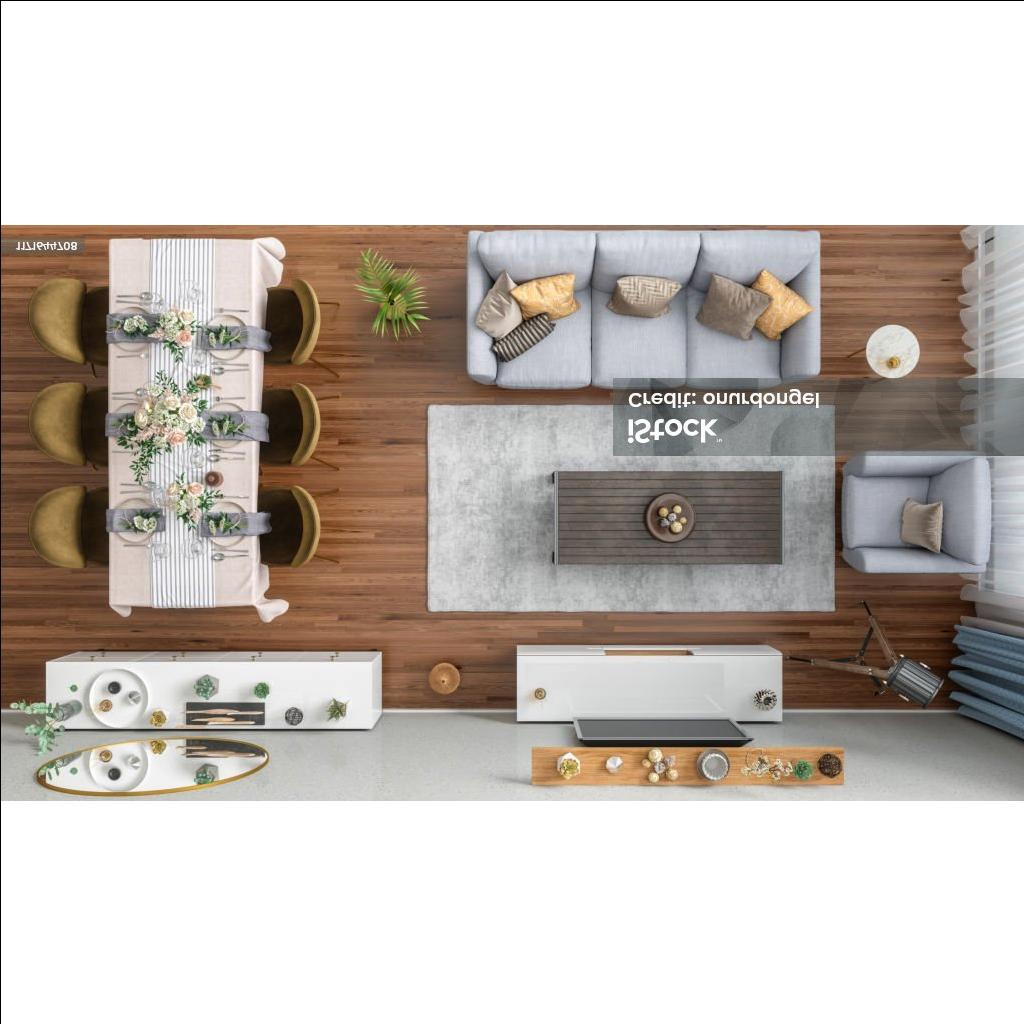TV stand: (516, 654, 782, 720)
chair: (838, 451, 996, 573), (28, 482, 98, 568), (28, 381, 98, 467), (29, 275, 97, 363), (263, 276, 321, 366), (262, 485, 322, 567), (263, 384, 321, 466)
coffee table: (558, 472, 780, 564)
dining table: (108, 236, 258, 606)
floor lamp: (855, 625, 941, 703)
floor plant: (365, 273, 419, 323)
floor vase: (427, 660, 463, 694)
rug: (426, 404, 834, 612)
side table: (864, 324, 920, 378)
sideboard: (46, 660, 372, 730)
sofa: (465, 228, 821, 390)
window: (1006, 226, 1024, 490), (1007, 493, 1023, 735)
